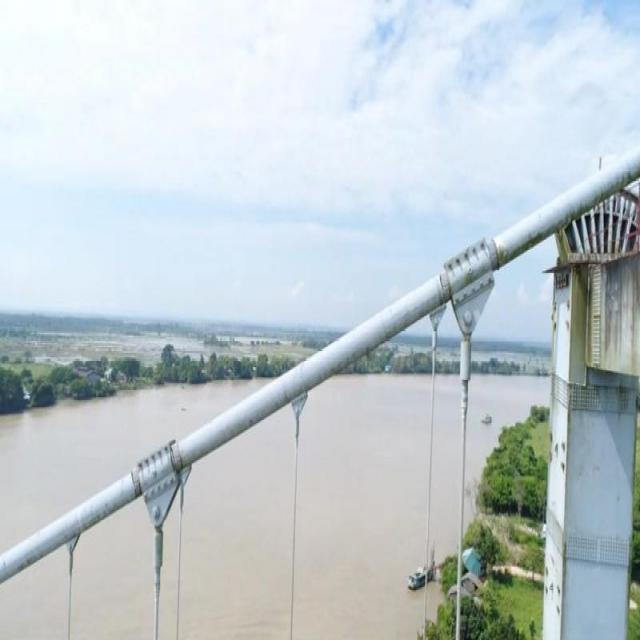Slippage: (487, 240, 499, 273), (440, 270, 452, 303), (131, 467, 142, 498), (170, 443, 182, 471)
